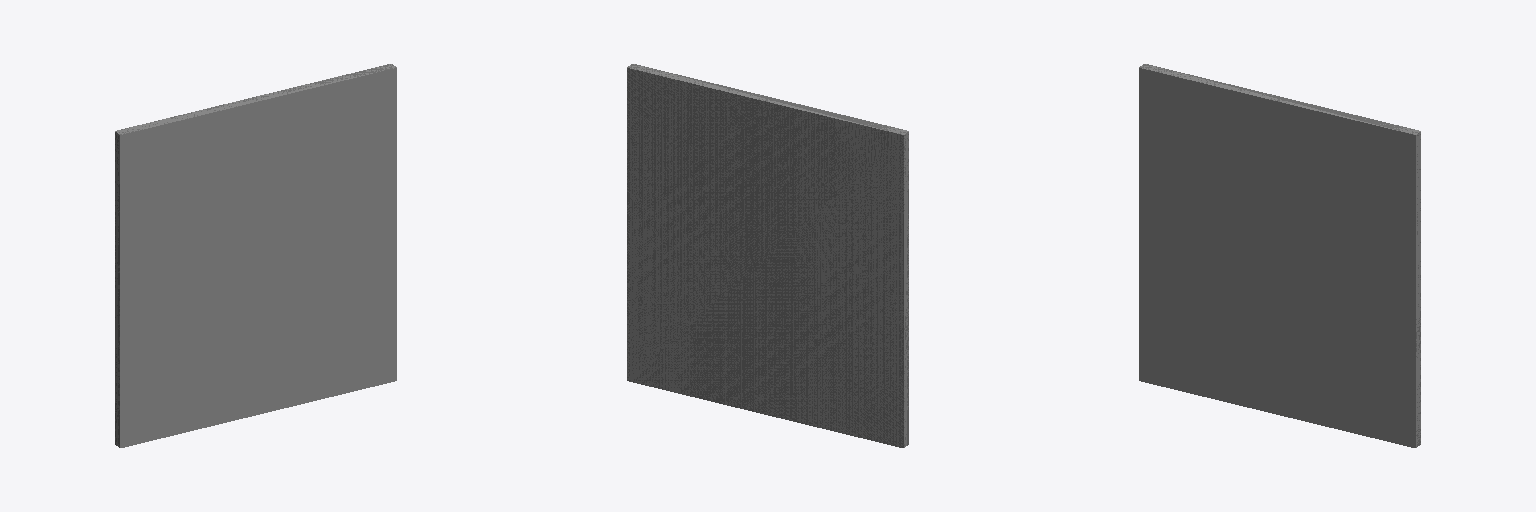
Rendered from Menu.obj.
3 renders of one model, left to right at view 1: azimuth 30°, elevation 25°; view 2: azimuth 150°, elevation 25°; view 3: azimuth 330°, elevation 25°, orthographic.
Visible parts, largest first — view 1: SketchUp, SketchUp_ID15; view 2: SketchUp, SketchUp_ID15; view 3: SketchUp, SketchUp_ID15.
Boxes of the visible parts, x1=… form: SketchUp: x1=115, y1=64, x2=396, y2=447; SketchUp_ID15: x1=115, y1=64, x2=395, y2=447; SketchUp: x1=627, y1=64, x2=908, y2=447; SketchUp_ID15: x1=627, y1=64, x2=908, y2=447; SketchUp: x1=1139, y1=64, x2=1420, y2=447; SketchUp_ID15: x1=1139, y1=64, x2=1420, y2=446.
Size of the model in its own units: 2.87 by 3.11 by 0.1016.